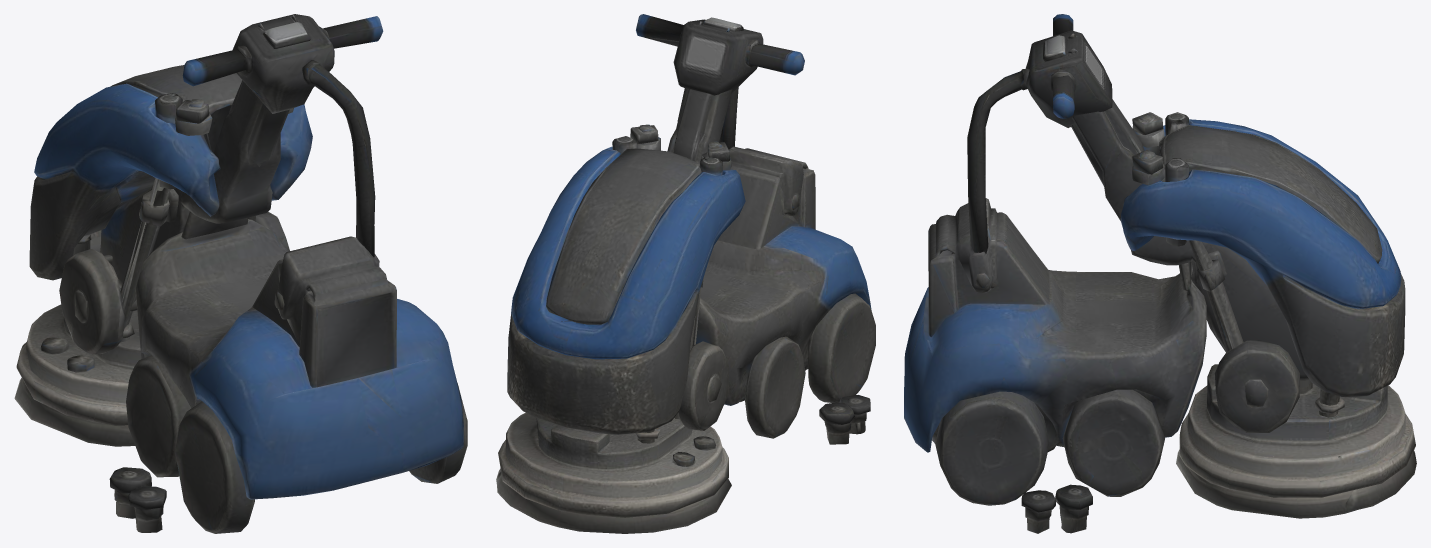
Rendered from p7-floor-scrubber-t25.glb.
3 renders of one model, left to right at view 1: azimuth 30°, elevation 25°; view 2: azimuth 150°, elevation 25°; view 3: azimuth 270°, elevation 25°, orthographic. The views are drawn at different scales.
Visible parts, largest first — view 1: p7-floor-scrubber-t25; view 2: p7-floor-scrubber-t25; view 3: p7-floor-scrubber-t25.
Boxes of the visible parts, box(x1,y1,x2,y2) form: p7-floor-scrubber-t25: box(14, 14, 467, 533); p7-floor-scrubber-t25: box(496, 14, 875, 533); p7-floor-scrubber-t25: box(904, 14, 1416, 533).
Size of the model in its own units: 0.822 by 1.1 by 1.2.
Materials: 1 (1 with a texture image).
